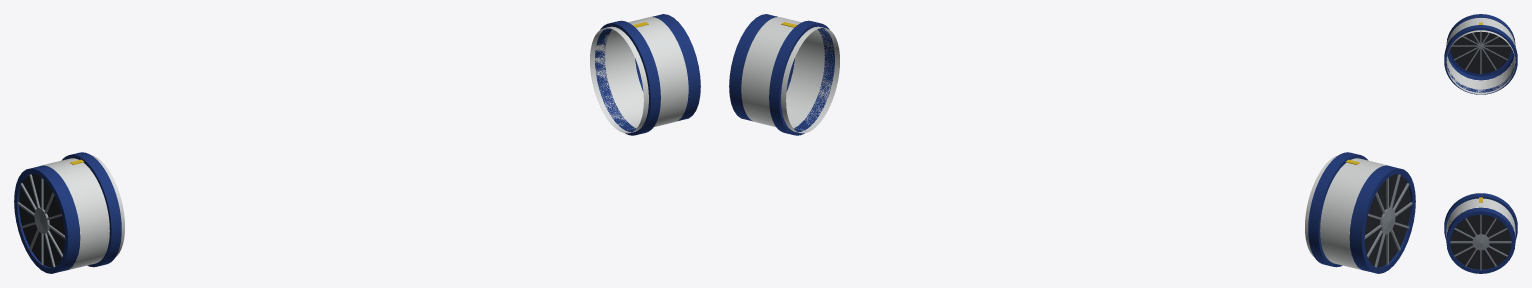
File: l200_fan.obj
The picture shows the model from 3 angles, left to right: view 1: azimuth 30°, elevation 25°; view 2: azimuth 150°, elevation 25°; view 3: azimuth 270°, elevation 25°; orthographic projection. The views are drawn at different scales.
Visible parts, largest first — view 1: l200_fan; view 2: l200_fan; view 3: l200_fan.
Boxes of the visible parts, x1,y1,x2,y2 form: l200_fan: (14, 14, 700, 273); l200_fan: (729, 14, 1415, 273); l200_fan: (1444, 14, 1517, 273).
Bounding box in the file's own units: 6.24 × 0.98 × 0.98.
